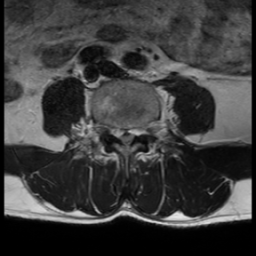CCS_stenosis: (123, 125, 129, 153)
LFS_normal: (136, 120, 145, 140)
LLS_normal: (129, 123, 137, 147)
RFS_stenosis: (108, 119, 116, 140)
RLS_normal: (116, 123, 123, 147)
